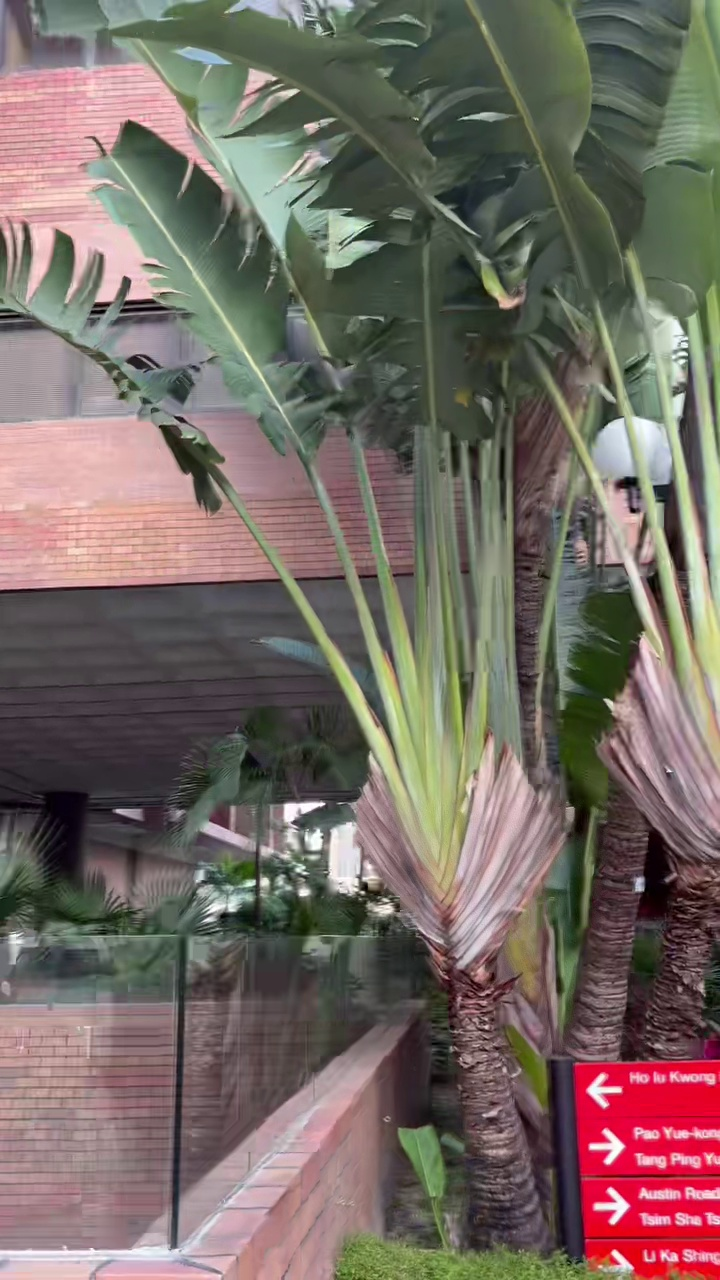Travellers-tree: (88, 0, 619, 1248)
